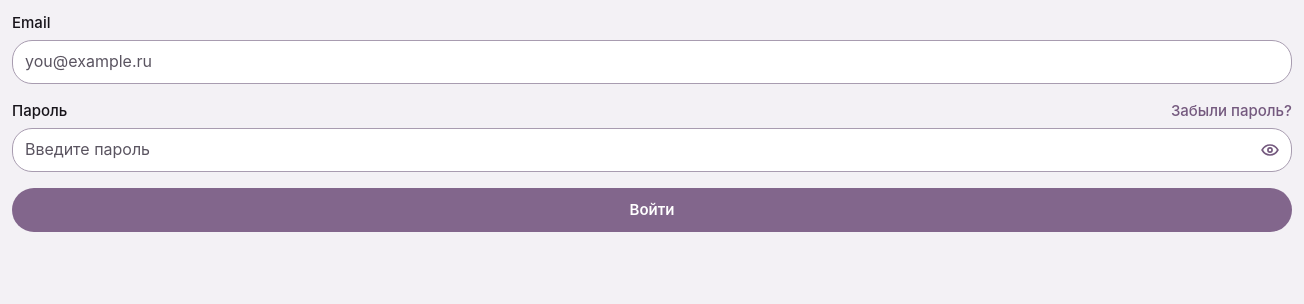
Scenario: LoginForm › words an empty form in Russian
Click the button "Войти" at (652, 210), box [12, 188, 1292, 232]
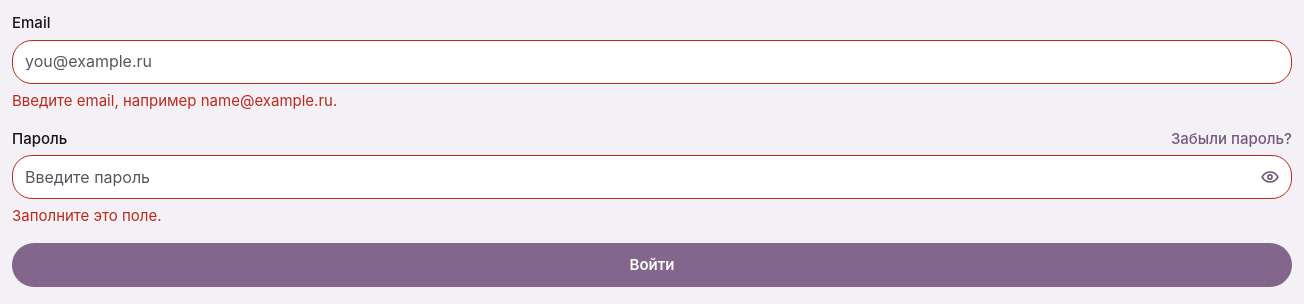
Now the text "Введите email, например name@example.ru." is shown, box [12, 91, 337, 110]
Now the text "Заполните это поле." is shown, box [12, 206, 162, 225]
